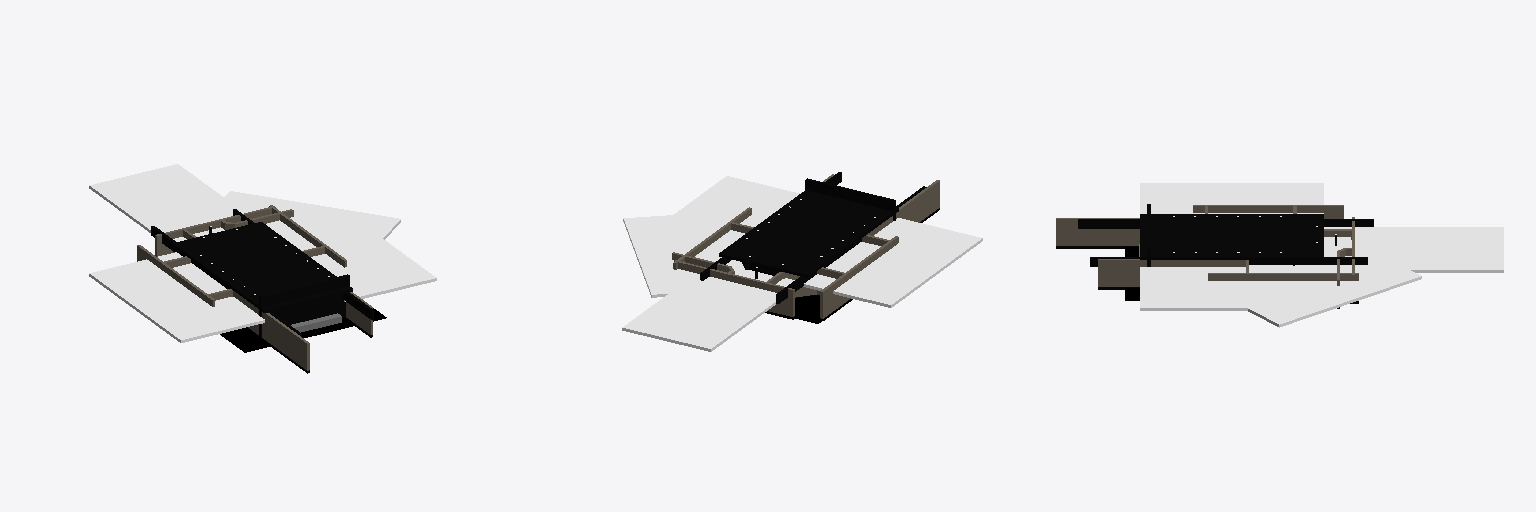
The model's file is CompletedTrinityModel.obj.
3 renders of one model, left to right at view 1: azimuth 30°, elevation 25°; view 2: azimuth 150°, elevation 25°; view 3: azimuth 270°, elevation 25°, orthographic.
Parts seen in each view (by area): view 1: MainCeiling, Ceiling1, Ceiling4, Ceiling2, Ceiling3, BackWall, Wall2, Floor, RoofEdge, Wall13, Wall4, Wall5; view 2: MainCeiling, Ceiling1, Ceiling4, Ceiling3, Ceiling2, Wall13, Wall2, Wall4, BackWall, RoofEdge, Floor, Wall5; view 3: MainCeiling, Ceiling4, Ceiling2, Ceiling1, Ceiling3, Wall1, Wall2, RoofEdge, Wall4, Wall5.
Boxes of the visible parts, x1=… form: MainCeiling: x1=173, y1=222, x2=352, y2=312; Ceiling1: x1=89, y1=252, x2=264, y2=342; Ceiling4: x1=89, y1=164, x2=243, y2=241; Ceiling2: x1=272, y1=216, x2=436, y2=298; Ceiling3: x1=201, y1=191, x2=400, y2=258; BackWall: x1=259, y1=274, x2=349, y2=337; Wall2: x1=233, y1=291, x2=309, y2=373; Floor: x1=220, y1=308, x2=386, y2=352; RoofEdge: x1=151, y1=209, x2=373, y2=336; Wall13: x1=155, y1=206, x2=275, y2=256; Wall4: x1=137, y1=245, x2=214, y2=306; Wall5: x1=269, y1=205, x2=346, y2=267; MainCeiling: x1=719, y1=190, x2=898, y2=277; Ceiling1: x1=803, y1=218, x2=982, y2=307; Ceiling4: x1=622, y1=270, x2=794, y2=351; Ceiling3: x1=623, y1=212, x2=751, y2=297; Ceiling2: x1=637, y1=176, x2=799, y2=258; Wall13: x1=674, y1=260, x2=794, y2=319; Wall2: x1=867, y1=180, x2=939, y2=235; Wall4: x1=820, y1=236, x2=898, y2=320; BackWall: x1=805, y1=178, x2=895, y2=220; RoofEdge: x1=700, y1=172, x2=926, y2=303; Floor: x1=770, y1=295, x2=851, y2=323; Wall5: x1=673, y1=207, x2=751, y2=269; MainCeiling: x1=1140, y1=214, x2=1323, y2=259; Ceiling4: x1=1320, y1=227, x2=1503, y2=272; Ceiling2: x1=1140, y1=265, x2=1323, y2=310; Ceiling1: x1=1140, y1=183, x2=1323, y2=213; Ceiling3: x1=1239, y1=243, x2=1421, y2=327; Wall1: x1=1098, y1=259, x2=1245, y2=289; Wall2: x1=1056, y1=218, x2=1139, y2=248; RoofEdge: x1=1078, y1=219, x2=1373, y2=266; Wall4: x1=1193, y1=205, x2=1343, y2=218; Wall5: x1=1208, y1=273, x2=1358, y2=303.
Bounding box in the file's own units: 102 × 15 × 136.